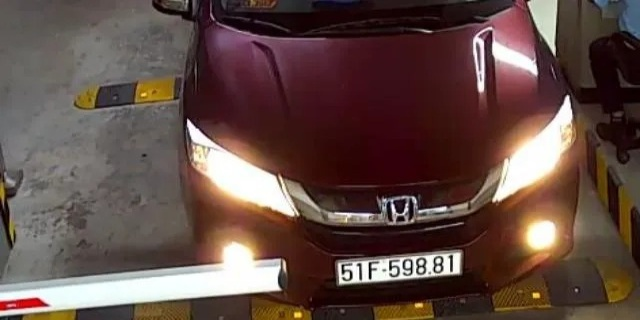bien_so: (336, 255, 462, 281)
